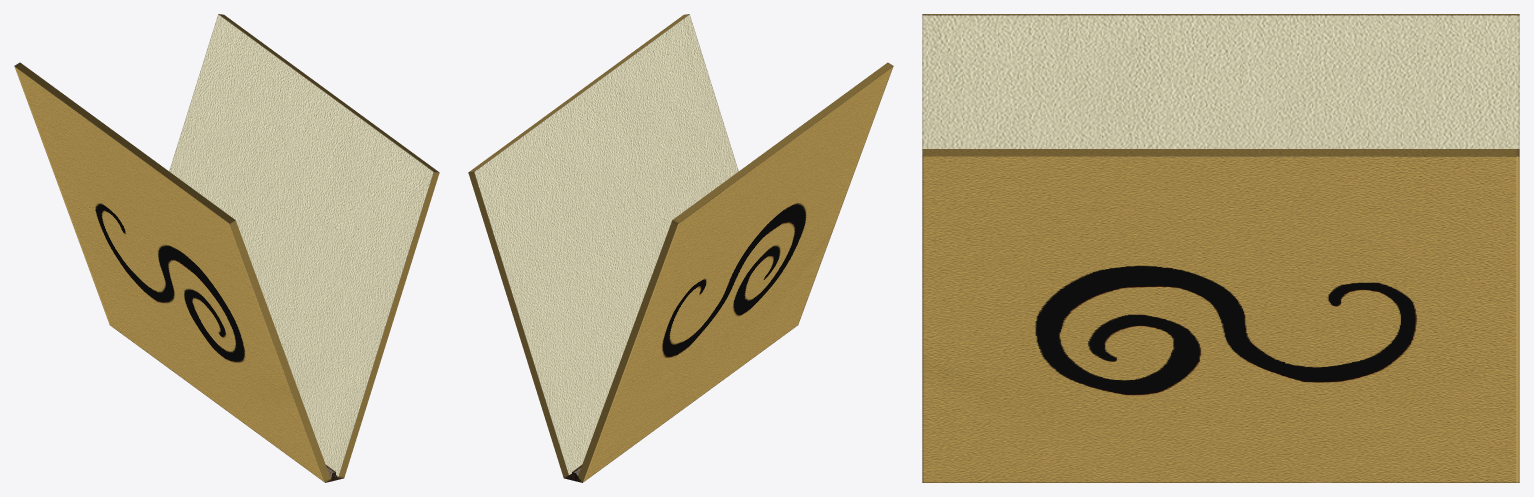
The model's file is BoekModel.fbx.
3 renders of one model, left to right at view 1: azimuth 30°, elevation 25°; view 2: azimuth 150°, elevation 25°; view 3: azimuth 270°, elevation 25°, orthographic. The views are drawn at different scales.
Visible parts, largest first — view 1: Cube; view 2: Cube; view 3: Cube.
Boxes of the visible parts, x1,y1,x2,y2 form: Cube: (14, 14, 439, 482); Cube: (468, 14, 893, 482); Cube: (922, 14, 1519, 482).
Size of the model in its own units: 112 by 146 by 200.
1 material, 1 textured.
